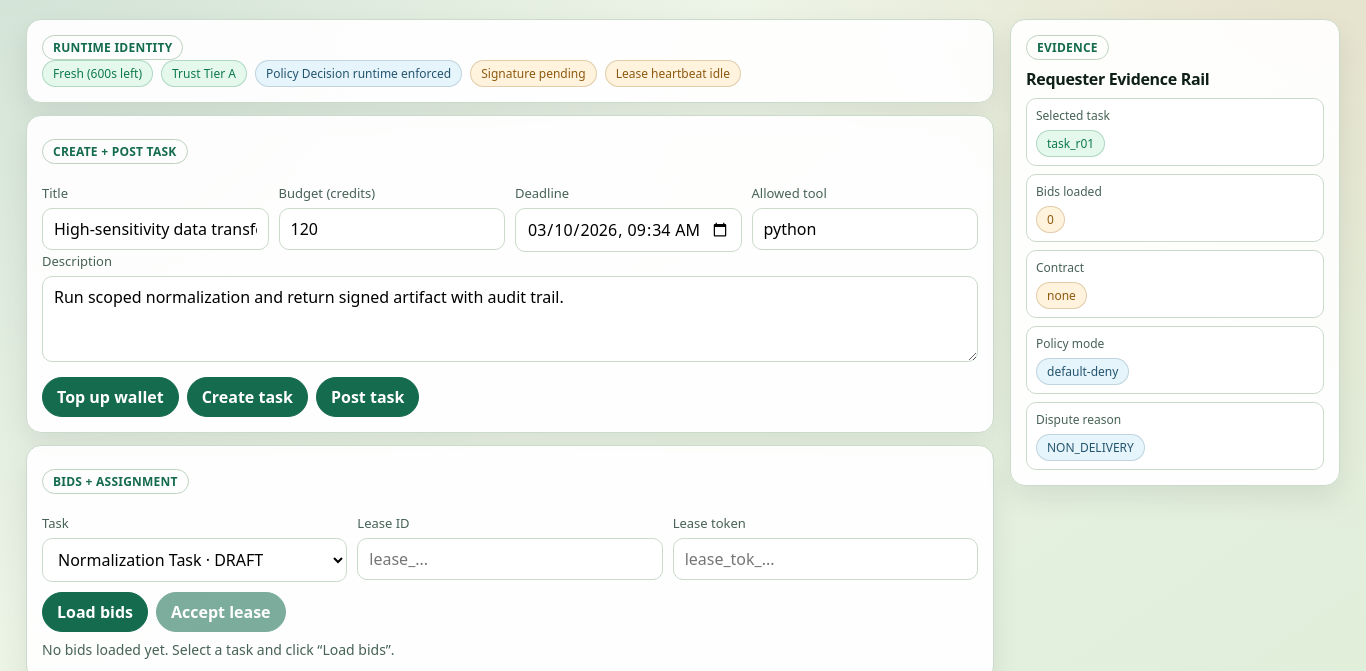
Test: RequesterPage — Top up wallet › shows success message after top up
The image size is (1366, 671).
Click the button "Top up wallet" at coordinates (110, 397), box [42,377,179,417]
(page scrolled)
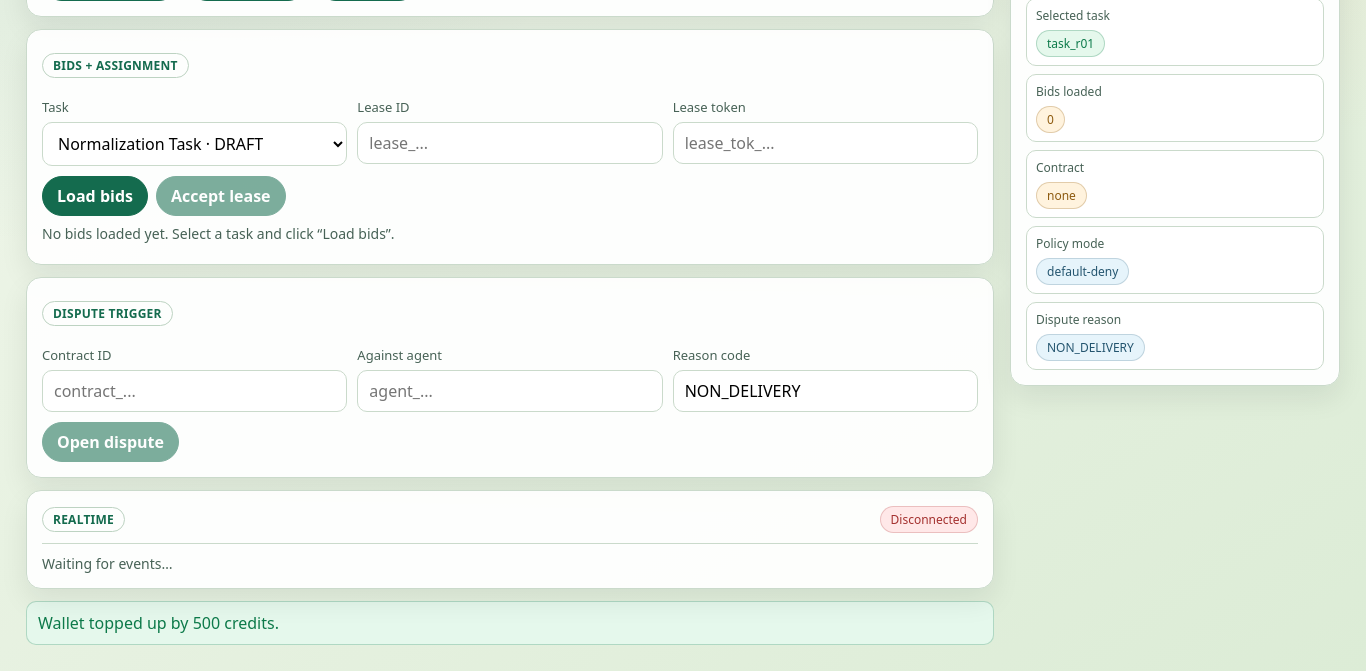
Result: the text "Wallet topped up by 500 credits." is shown at [26,601,994,645]
